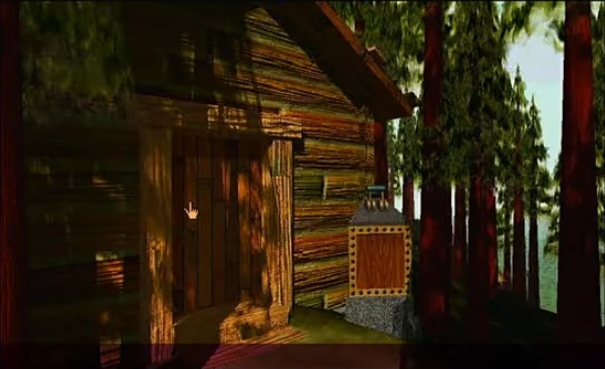Pointer: (181, 198, 203, 221)
